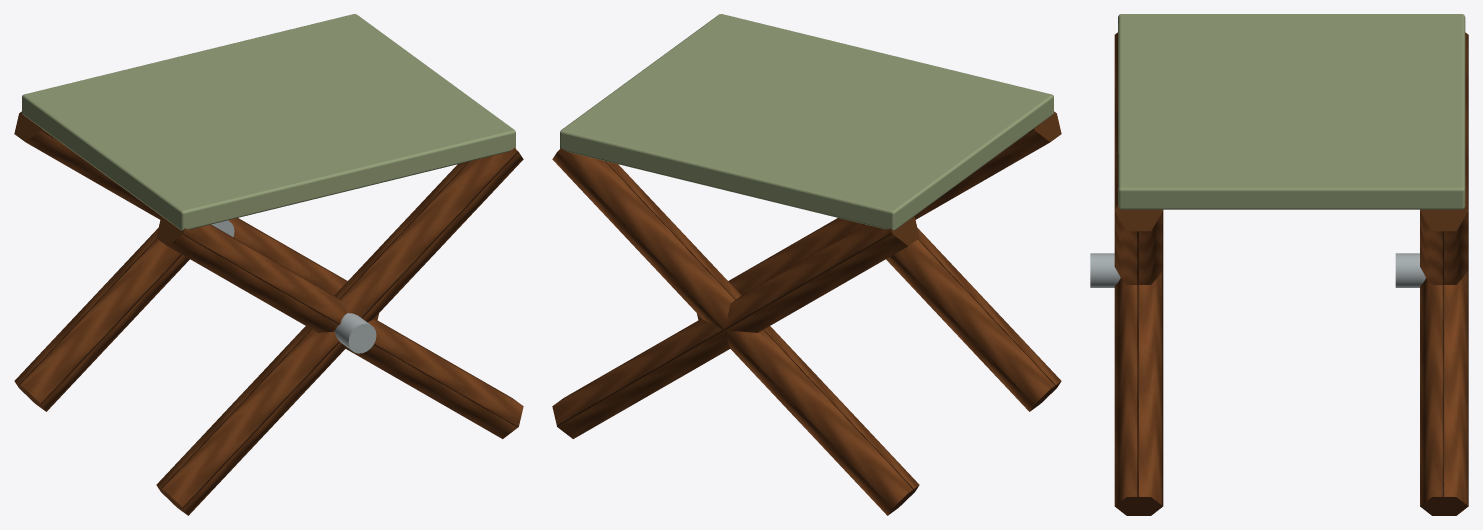
The model's file is wilderness-survival-camp-folding-camp-stool-bf33d757__21949.glb.
The picture shows the model from 3 angles, left to right: view 1: azimuth 30°, elevation 25°; view 2: azimuth 150°, elevation 25°; view 3: azimuth 270°, elevation 25°; orthographic projection. The views are drawn at different scales.
Visible parts, largest first — view 1: folding-camp-stool; view 2: folding-camp-stool; view 3: folding-camp-stool.
Part boxes in pixels (box(x1,y1,x2,y2)): folding-camp-stool: box(14, 14, 523, 515); folding-camp-stool: box(552, 14, 1061, 515); folding-camp-stool: box(1090, 14, 1468, 515).
Size of the model in its own units: 0.6374 by 0.5289 by 0.545.
3 materials, 1 textured.
